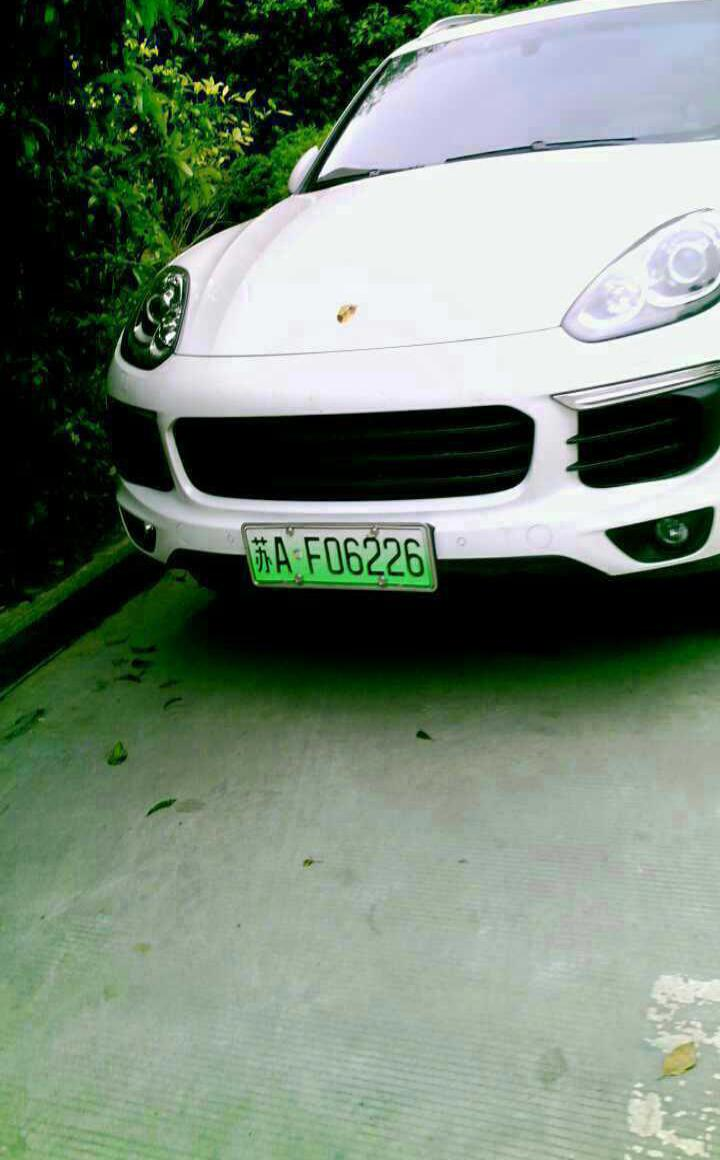car: (238, 522, 449, 596)
